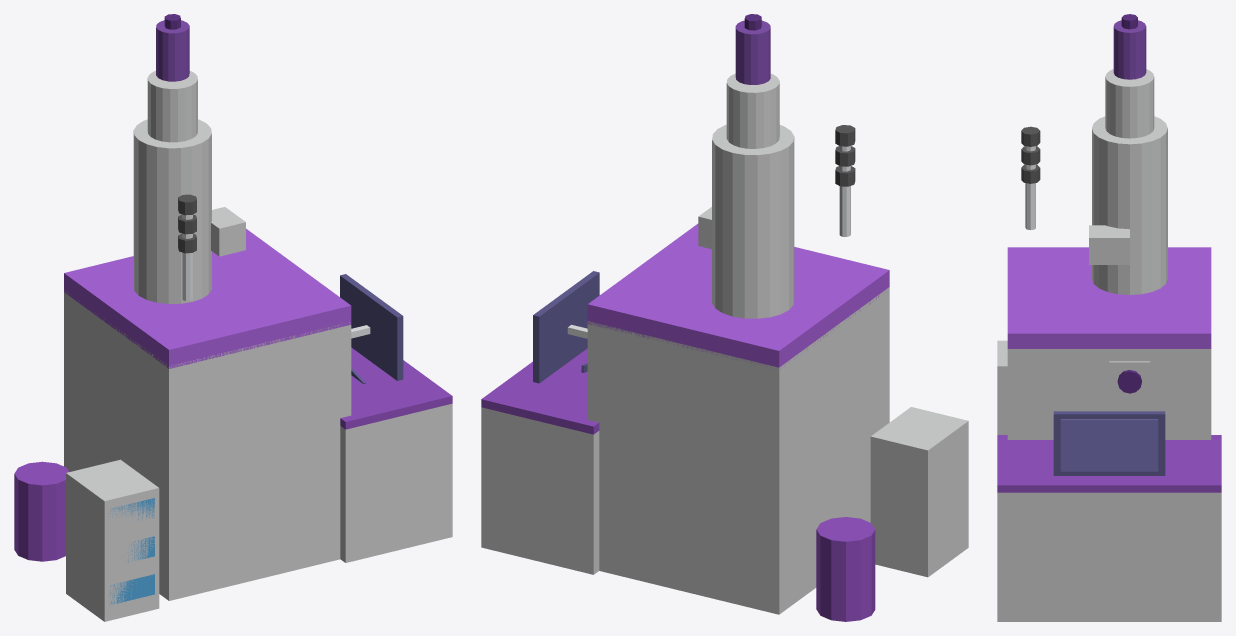
Rendered from SEM.glb.
The picture shows the model from 3 angles, left to right: view 1: azimuth 30°, elevation 25°; view 2: azimuth 150°, elevation 25°; view 3: azimuth 270°, elevation 25°; orthographic projection. The views are drawn at different scales.
Visible parts, largest first — view 1: p00001, p00002, p00017, p00023, p00007, p00027, p00018, p00020, p00008, p00009, p00011, p00024 (+1 smaller); view 2: p00001, p00002, p00017, p00023, p00007, p00027, p00018, p00020, p00008, p00009, p00028; view 3: p00017, p00002, p00001, p00007, p00018, p00021, p00008, p00020, p00009, p00011, p00015, p00023 (+3 smaller).
Part boxes in pixels (left/top/right/bottom): p00001: left=64, top=289, right=351, bottom=600; p00002: left=64, top=229, right=351, bottom=368; p00017: left=340, top=403, right=452, bottom=562; p00023: left=66, top=459, right=159, bottom=621; p00007: left=133, top=119, right=211, bottom=303; p00027: left=14, top=461, right=69, bottom=561; p00018: left=340, top=347, right=452, bottom=429; p00020: left=340, top=274, right=403, bottom=380; p00008: left=147, top=70, right=197, bottom=142; p00009: left=156, top=20, right=189, bottom=81; p00011: left=211, top=207, right=245, bottom=256; p00024: left=109, top=574, right=154, bottom=605; p00001: left=587, top=287, right=889, bottom=614; p00002: left=587, top=223, right=889, bottom=369; p00017: left=481, top=407, right=599, bottom=574; p00023: left=870, top=407, right=968, bottom=577; p00007: left=712, top=124, right=794, bottom=318; p00027: left=816, top=517, right=875, bottom=621; p00018: left=481, top=348, right=599, bottom=434; p00020: left=533, top=271, right=599, bottom=383; p00008: left=726, top=73, right=779, bottom=148; p00009: left=735, top=20, right=770, bottom=84; p00028: left=839, top=146, right=850, bottom=236; p00017: left=997, top=492, right=1221, bottom=621; p00002: left=1007, top=247, right=1211, bottom=348; p00001: left=1007, top=349, right=1211, bottom=439; p00007: left=1092, top=116, right=1167, bottom=294; p00018: left=997, top=435, right=1221, bottom=492; p00021: left=1060, top=419, right=1158, bottom=471; p00008: left=1105, top=69, right=1154, bottom=138; p00020: left=1053, top=411, right=1165, bottom=475; p00009: left=1113, top=20, right=1146, bottom=79; p00011: left=1089, top=225, right=1129, bottom=264; p00015: left=1109, top=361, right=1150, bottom=399; p00023: left=997, top=340, right=1007, bottom=434.
Bounding box in the file's own units: 2.87 × 4.1 × 1.65.
